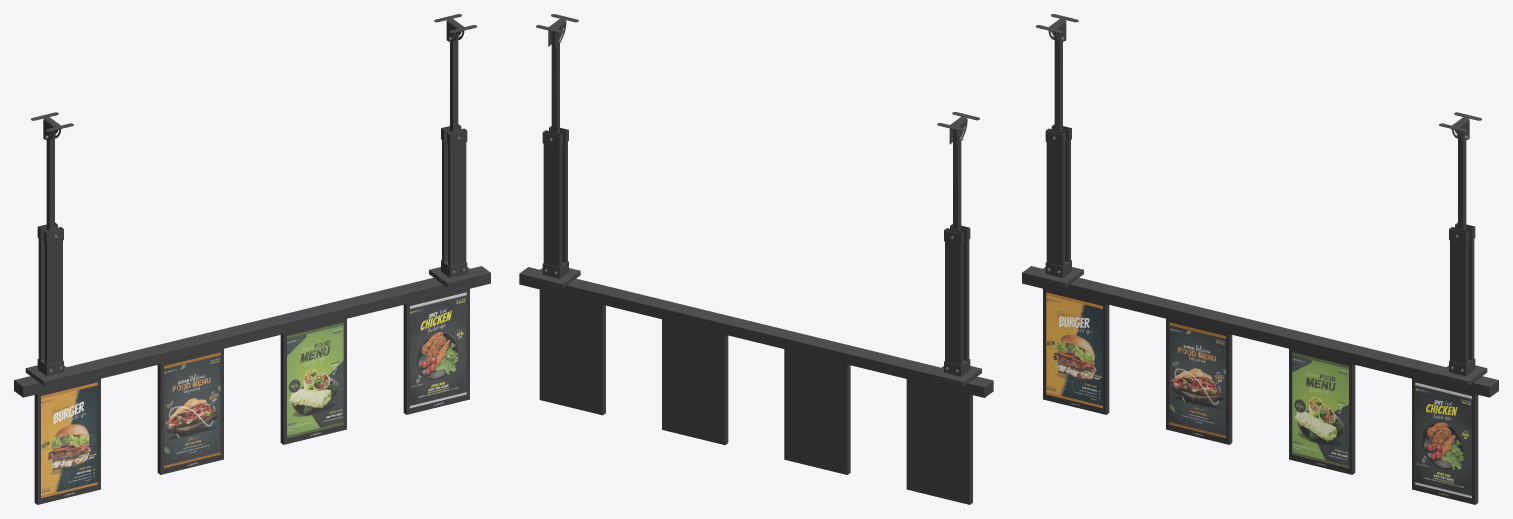
The model's file is hanging_display.glb.
3 renders of one model, left to right at view 1: azimuth 30°, elevation 25°; view 2: azimuth 150°, elevation 25°; view 3: azimuth 330°, elevation 25°, orthographic.
Visible parts, largest first — view 1: glass, frame, led, screen_2, screen_4, screen_1, screen_3; view 2: led, frame; view 3: glass, frame, led, screen_1, screen_3, screen_2, screen_4.
Part boxes in pixels (x1=…): glass: x1=41, y1=293, x2=466, y2=497; frame: x1=14, y1=14, x2=490, y2=397; led: x1=34, y1=288, x2=469, y2=504; screen_2: x1=164, y1=352, x2=220, y2=468; screen_4: x1=410, y1=292, x2=466, y2=408; screen_1: x1=41, y1=382, x2=97, y2=498; screen_3: x1=287, y1=322, x2=343, y2=438; led: x1=539, y1=289, x2=972, y2=504; frame: x1=519, y1=14, x2=993, y2=397; glass: x1=1046, y1=293, x2=1471, y2=497; frame: x1=1022, y1=14, x2=1498, y2=397; led: x1=1043, y1=288, x2=1478, y2=504; screen_1: x1=1046, y1=292, x2=1102, y2=408; screen_3: x1=1292, y1=352, x2=1348, y2=468; screen_2: x1=1169, y1=322, x2=1225, y2=438; screen_4: x1=1415, y1=382, x2=1471, y2=498.
Size of the model in its own units: 1.12 by 0.8682 by 0.082.
8 materials, 5 textured.
